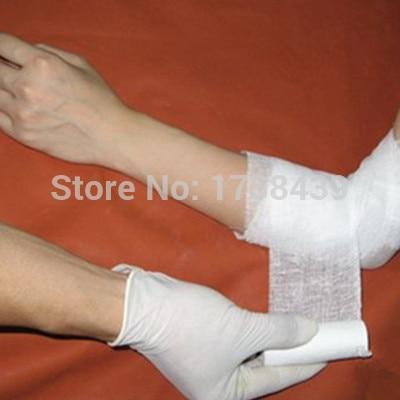bandage: (233, 128, 400, 367)
gloves: (110, 251, 328, 400)
